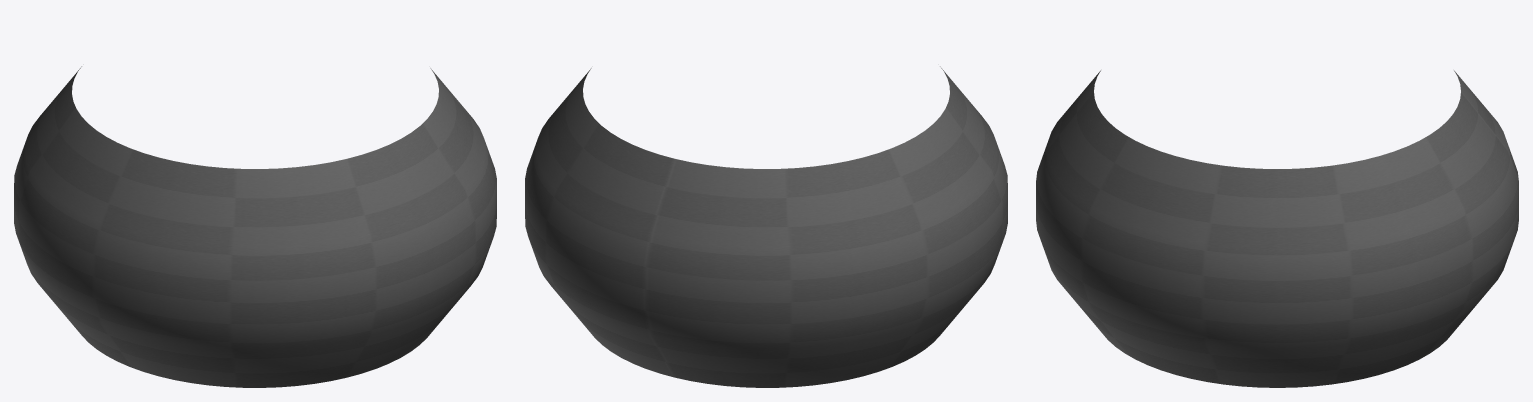
File: SM_1MeterRing.glb
The picture shows the model from 3 angles, left to right: view 1: azimuth 30°, elevation 25°; view 2: azimuth 150°, elevation 25°; view 3: azimuth 270°, elevation 25°; orthographic projection.
Visible parts, largest first — view 1: SM_1MeterRing; view 2: SM_1MeterRing; view 3: SM_1MeterRing.
Boxes of the visible parts, left/top/right/bottom form: SM_1MeterRing: left=14, top=66, right=496, bottom=387; SM_1MeterRing: left=525, top=66, right=1007, bottom=387; SM_1MeterRing: left=1036, top=70, right=1518, bottom=387.
Size of the model in its own units: 2 by 1 by 2.
Materials: 1 (1 with a texture image).
